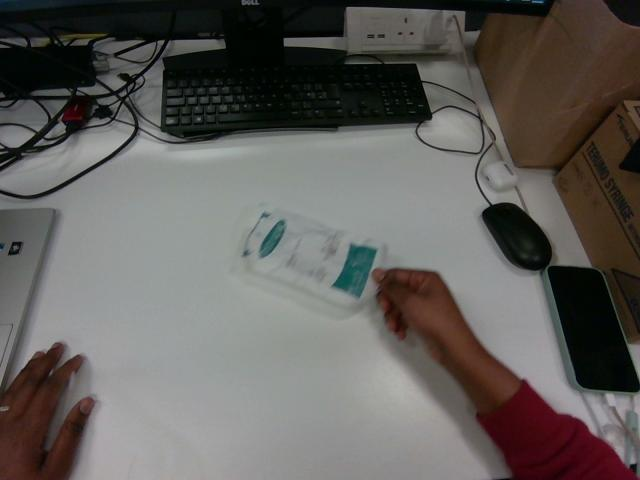gallipot: (236, 206, 386, 312)
